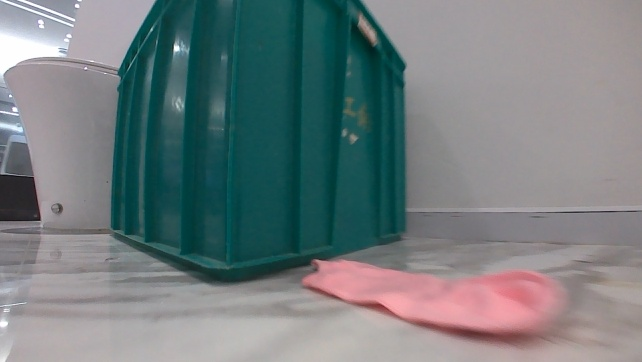socks: (299, 255, 572, 342)
toilet: (0, 52, 120, 234)
